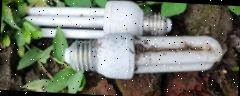lightbulb: (20, 0, 226, 84), (63, 28, 224, 84), (22, 0, 173, 44)
